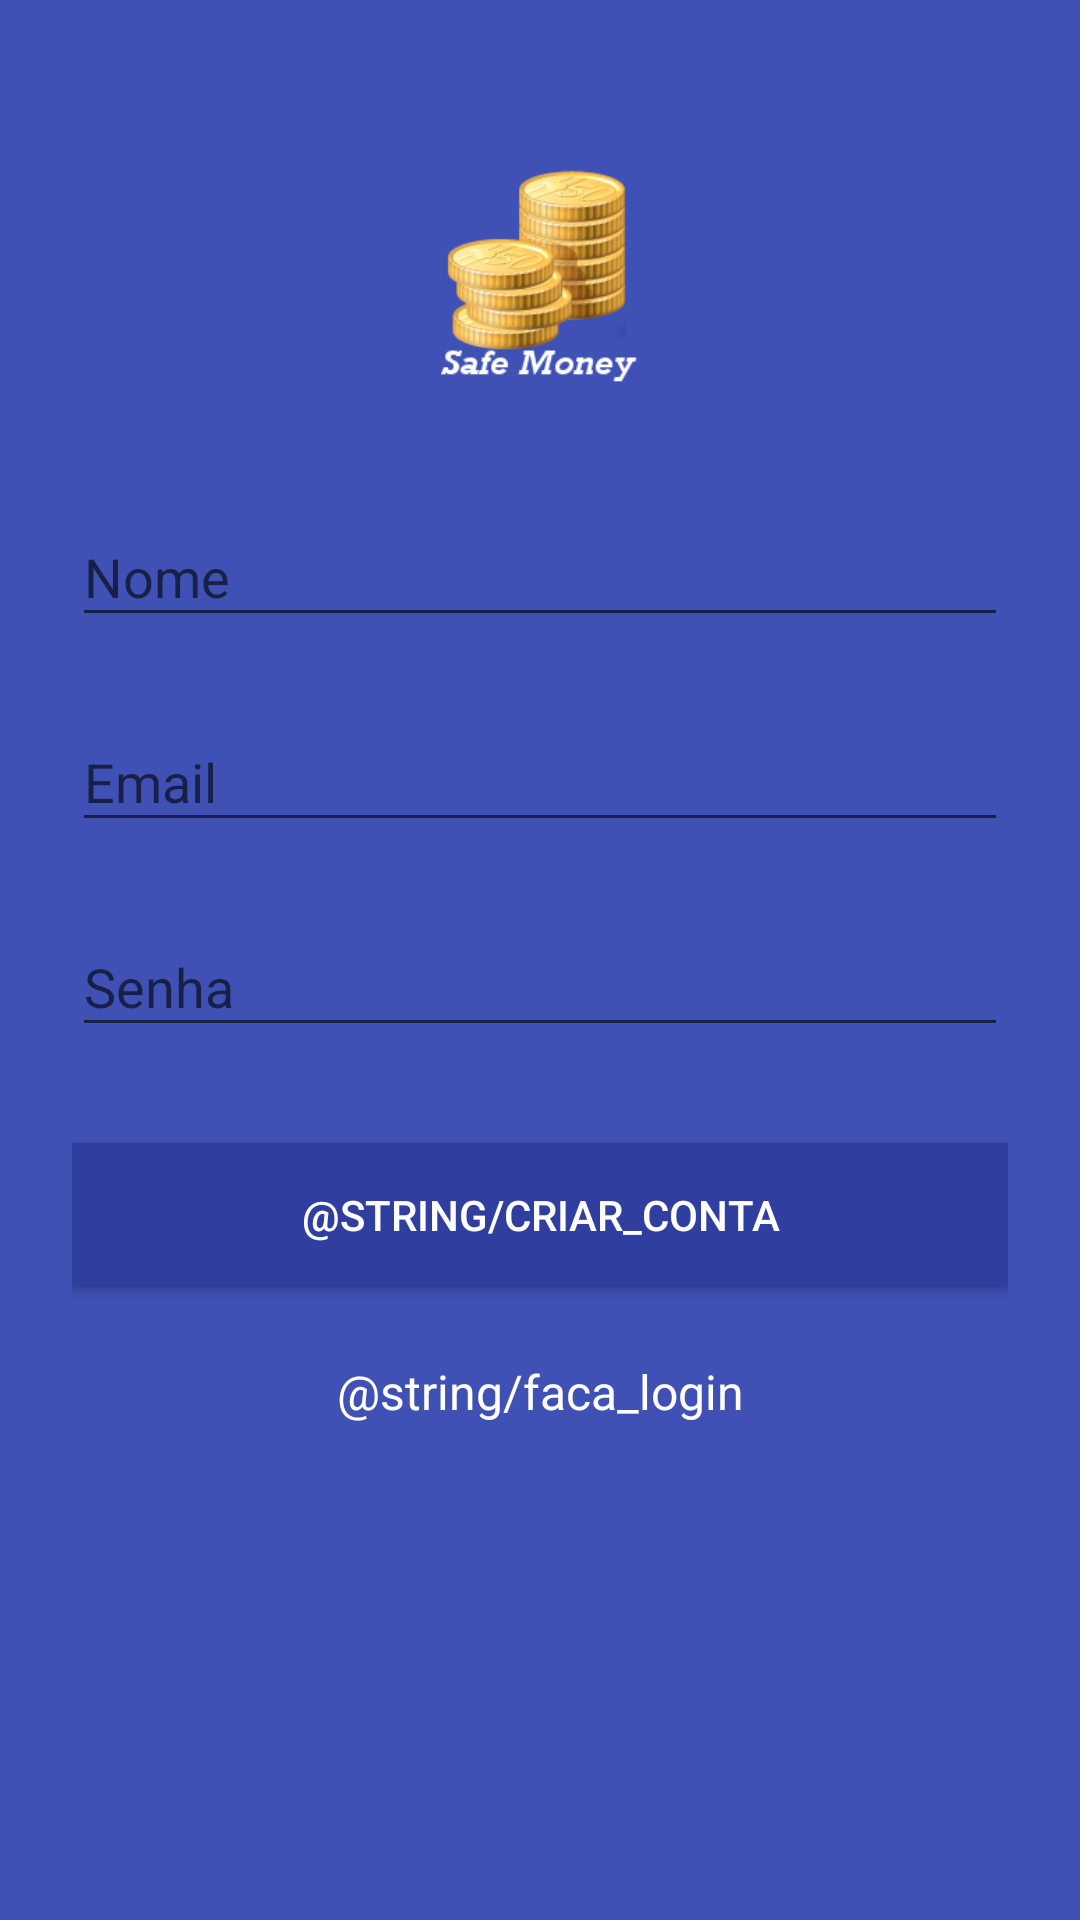

Icons on this 1080 x 1920 Android screen, each with its box as (x1, y1, x2, y2):
laucher: (441, 170, 637, 382)
